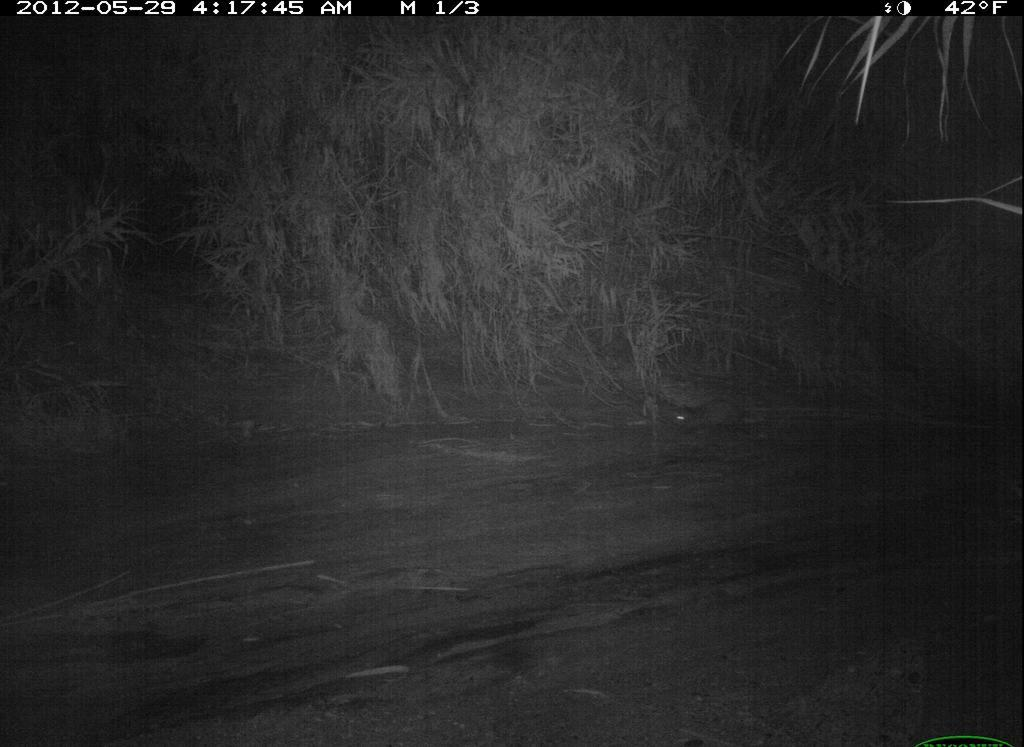opossum: (664, 393, 763, 441)
